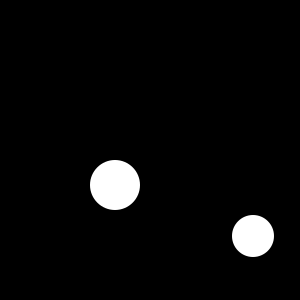rectangle: (90, 160, 140, 210), (232, 215, 274, 257)
